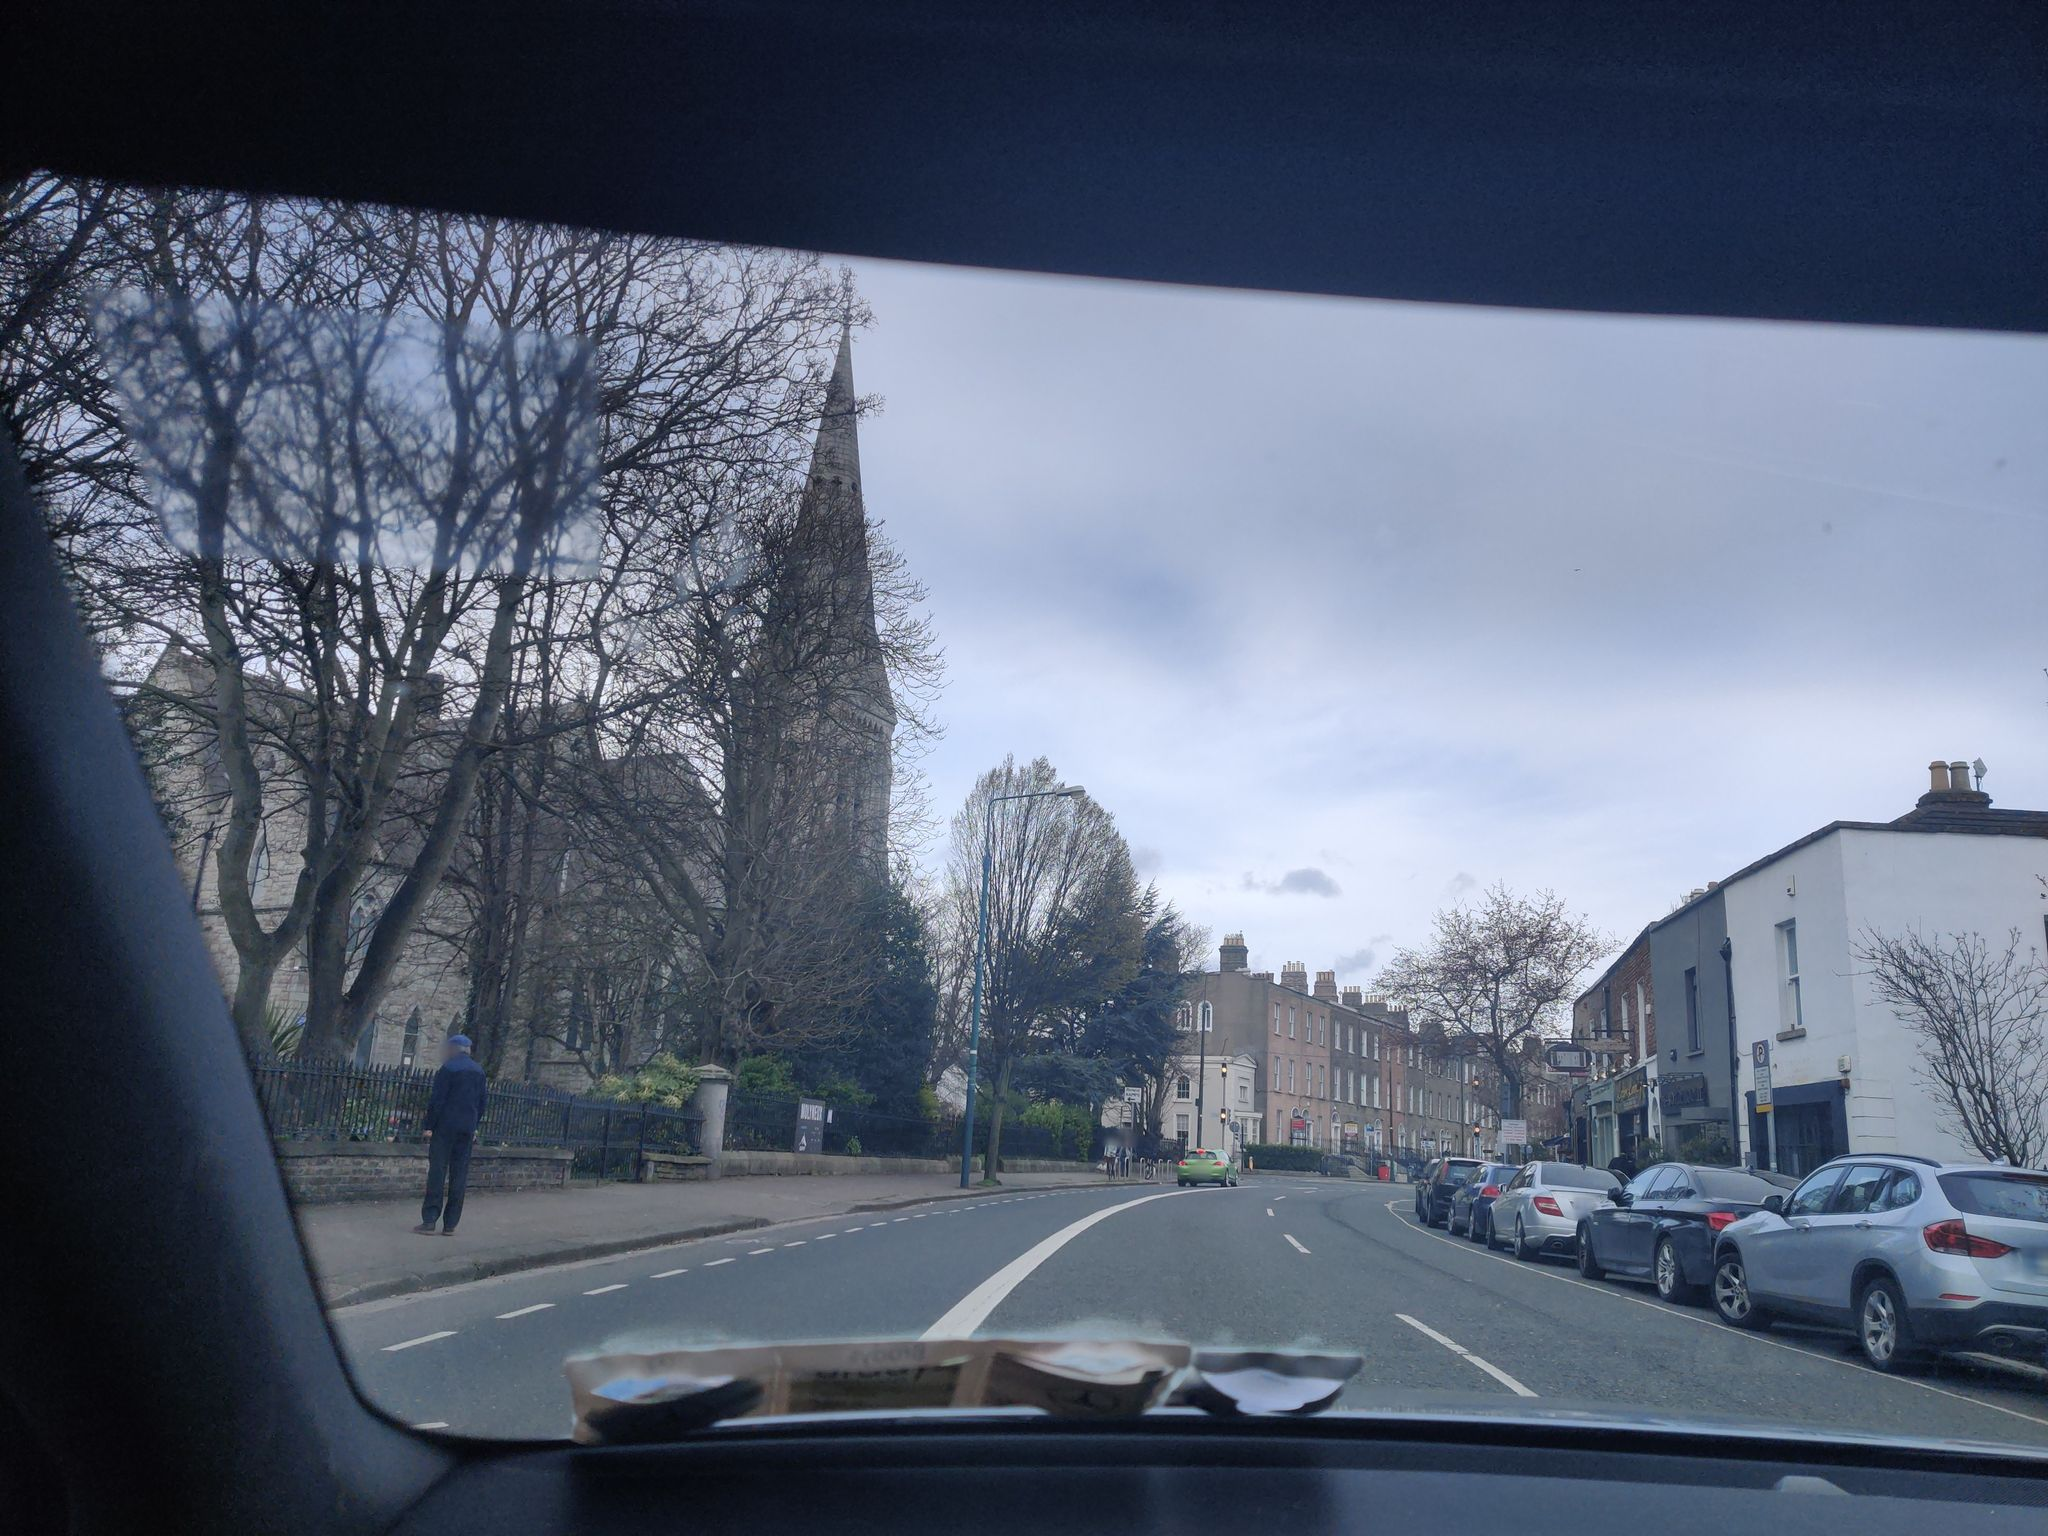vinyl banner: (789, 1083, 848, 1170)
